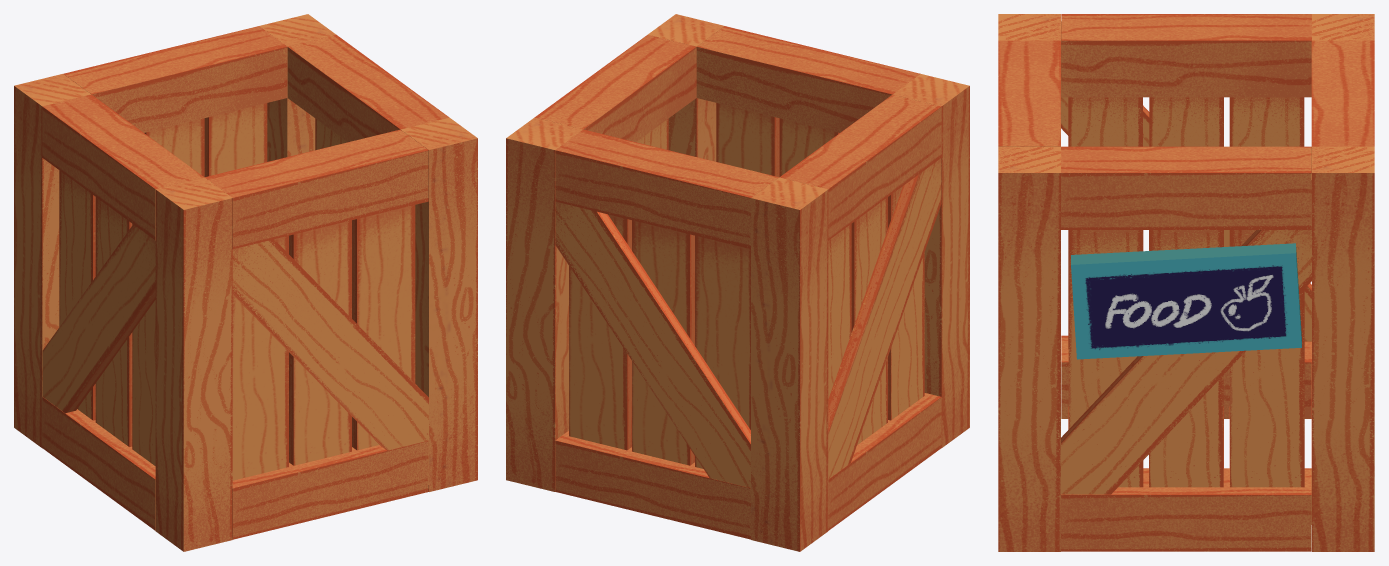
The model's file is food_crate.obj.
3 renders of one model, left to right at view 1: azimuth 30°, elevation 25°; view 2: azimuth 150°, elevation 25°; view 3: azimuth 270°, elevation 25°, orthographic. The views are drawn at different scales.
Parts seen in each view (by area): view 1: food_crate_Cube.007; view 2: food_crate_Cube.007; view 3: food_crate_Cube.007.
Boxes of the visible parts, bbox=[...] form: food_crate_Cube.007: bbox=[14, 14, 477, 551]; food_crate_Cube.007: bbox=[506, 14, 969, 551]; food_crate_Cube.007: bbox=[998, 14, 1374, 551].
Size of the model in its own units: 3.85 by 4 by 3.6.
